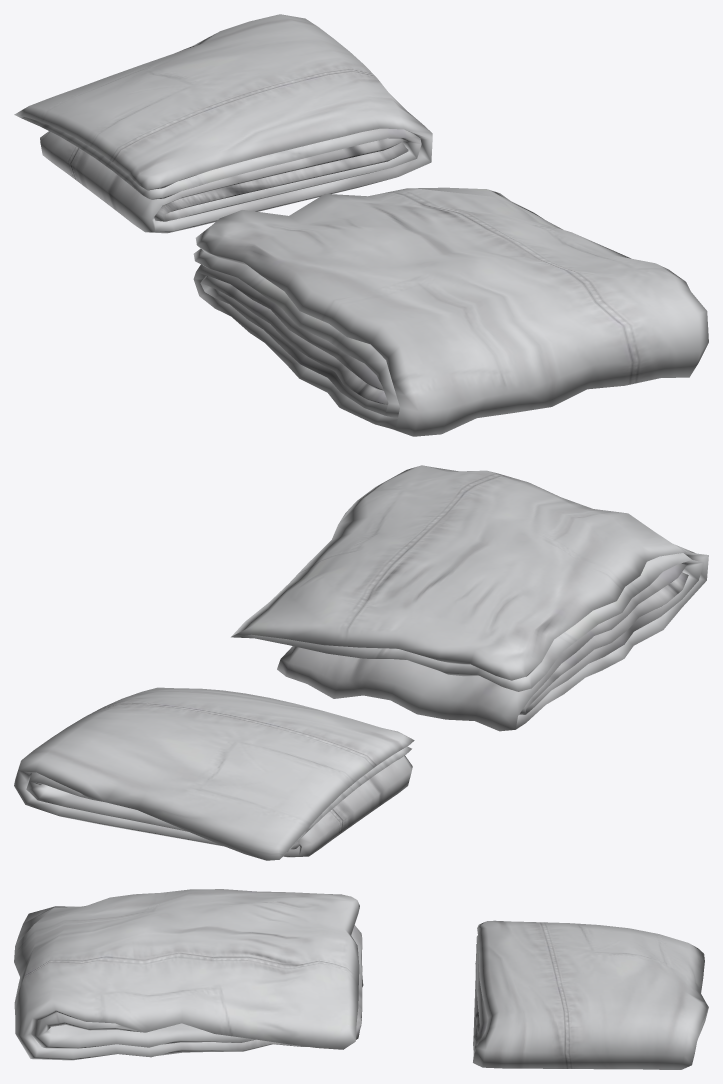
Rendered from 叠好的衣服.FBX.
3 renders of one model, top to bottom at view 1: azimuth 30°, elevation 25°; view 2: azimuth 150°, elevation 25°; view 3: azimuth 270°, elevation 25°, orthographic. The views are drawn at different scales.
Parts seen in each view (by area): view 1: Arch_Interiors_18_007__001_854, Arch_Interiors_18_007__001_865; view 2: Arch_Interiors_18_007__001_854, Arch_Interiors_18_007__001_865; view 3: Arch_Interiors_18_007__001_854, Arch_Interiors_18_007__001_865.
Boxes of the visible parts, <box> form: Arch_Interiors_18_007__001_854: <box>193,187,708,436</box>; Arch_Interiors_18_007__001_865: <box>14,14,432,233</box>; Arch_Interiors_18_007__001_854: <box>231,465,708,731</box>; Arch_Interiors_18_007__001_865: <box>14,687,414,860</box>; Arch_Interiors_18_007__001_854: <box>14,889,363,1060</box>; Arch_Interiors_18_007__001_865: <box>473,920,708,1069</box>.
Bounding box in the file's own units: 349 × 110 × 786.
